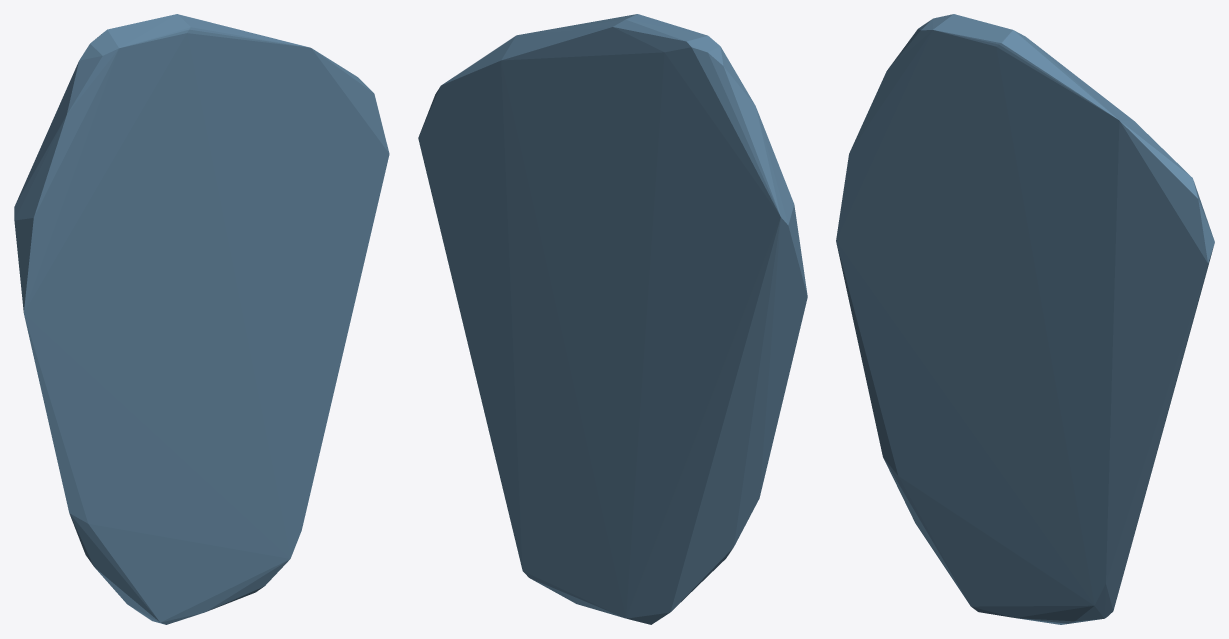
Rendered from food_prepared_steak_h01.glb.
3 views of the same model, side by side, from view 1: azimuth 30°, elevation 25°; view 2: azimuth 150°, elevation 25°; view 3: azimuth 330°, elevation 25° (orthographic). The views are drawn at different scales.
Parts seen in each view (by area): view 1: geometry_0; view 2: geometry_0; view 3: geometry_0.
Part boxes in pixels (x1,y1,x2,y2): geometry_0: (14,14,389,624); geometry_0: (418,14,807,624); geometry_0: (836,14,1214,624).
Size of the model in its own units: 0.3094 by 0.4737 by 0.0293.
